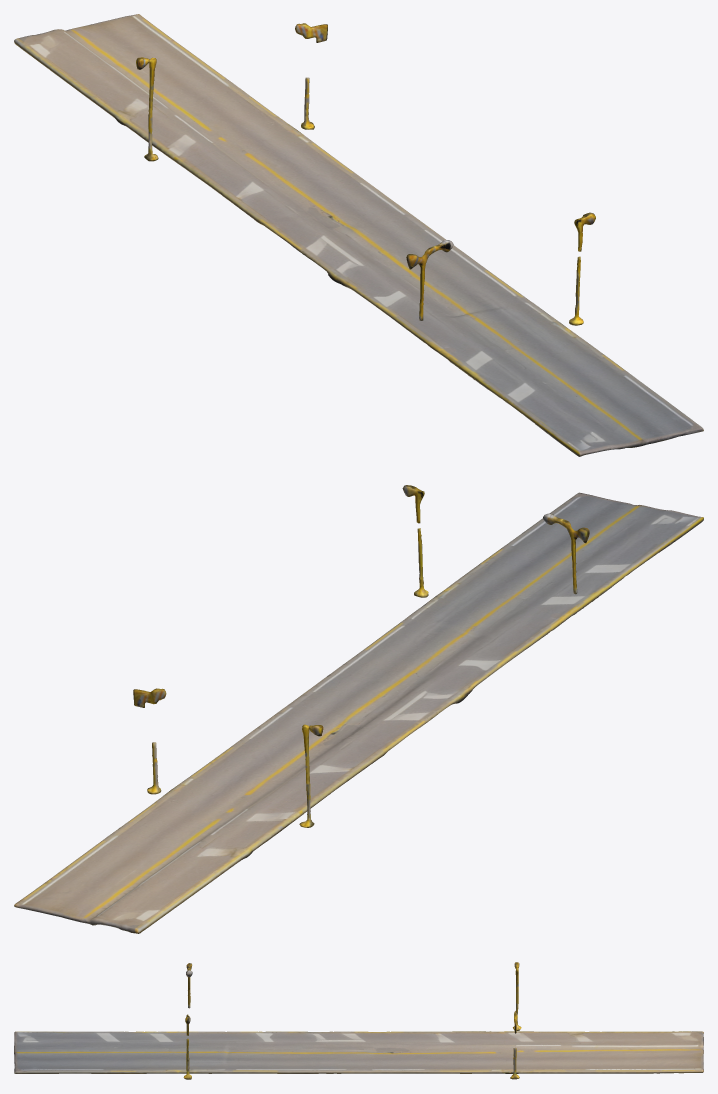
The model's file is AI_Road2LaneStraight.fbx.
The picture shows the model from 3 angles, top to bottom: view 1: azimuth 30°, elevation 25°; view 2: azimuth 150°, elevation 25°; view 3: azimuth 270°, elevation 25°; orthographic projection. The views are drawn at different scales.
Visible parts, largest first — view 1: Mesh_0; view 2: Mesh_0; view 3: Mesh_0.
Boxes of the visible parts, x1,y1,x2,y2 form: Mesh_0: (14, 14, 703, 456); Mesh_0: (14, 485, 703, 933); Mesh_0: (14, 962, 703, 1079).
Size of the model in its own units: 38.83 by 22.17 by 200.
1 material, 1 textured.
